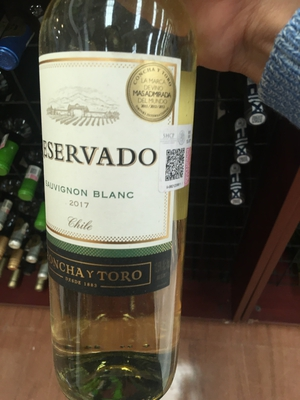reservado sauvignon blanc: (31, 3, 201, 400)
